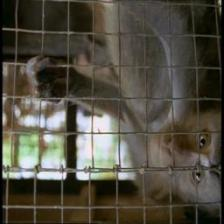monkey: (152, 104, 223, 211)
